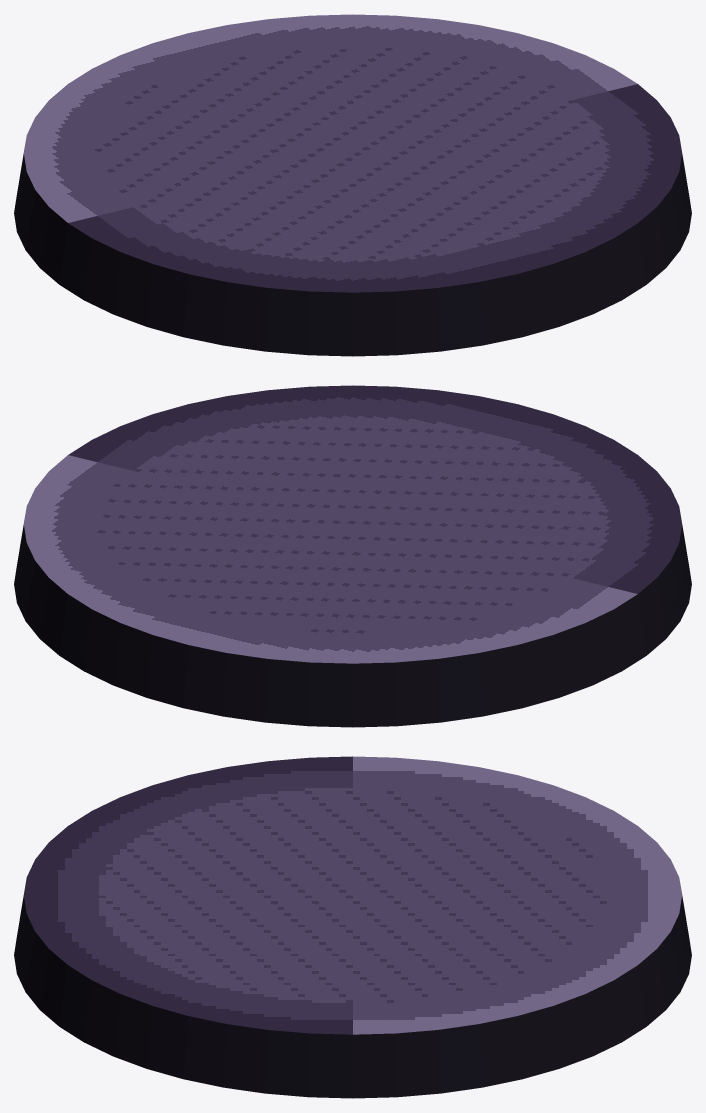
The model's file is platform_tower.glb.
The picture shows the model from 3 angles, top to bottom: view 1: azimuth 30°, elevation 25°; view 2: azimuth 150°, elevation 25°; view 3: azimuth 270°, elevation 25°; orthographic projection.
Parts seen in each view (by area): view 1: platform_tower; view 2: platform_tower; view 3: platform_tower.
Boxes of the visible parts, <box> form: platform_tower: <box>14,14,691,356</box>; platform_tower: <box>14,385,691,727</box>; platform_tower: <box>14,756,691,1098</box>.
Size of the model in its own units: 2.06 by 0.2 by 2.06.
Materials: 2 (1 with a texture image).
